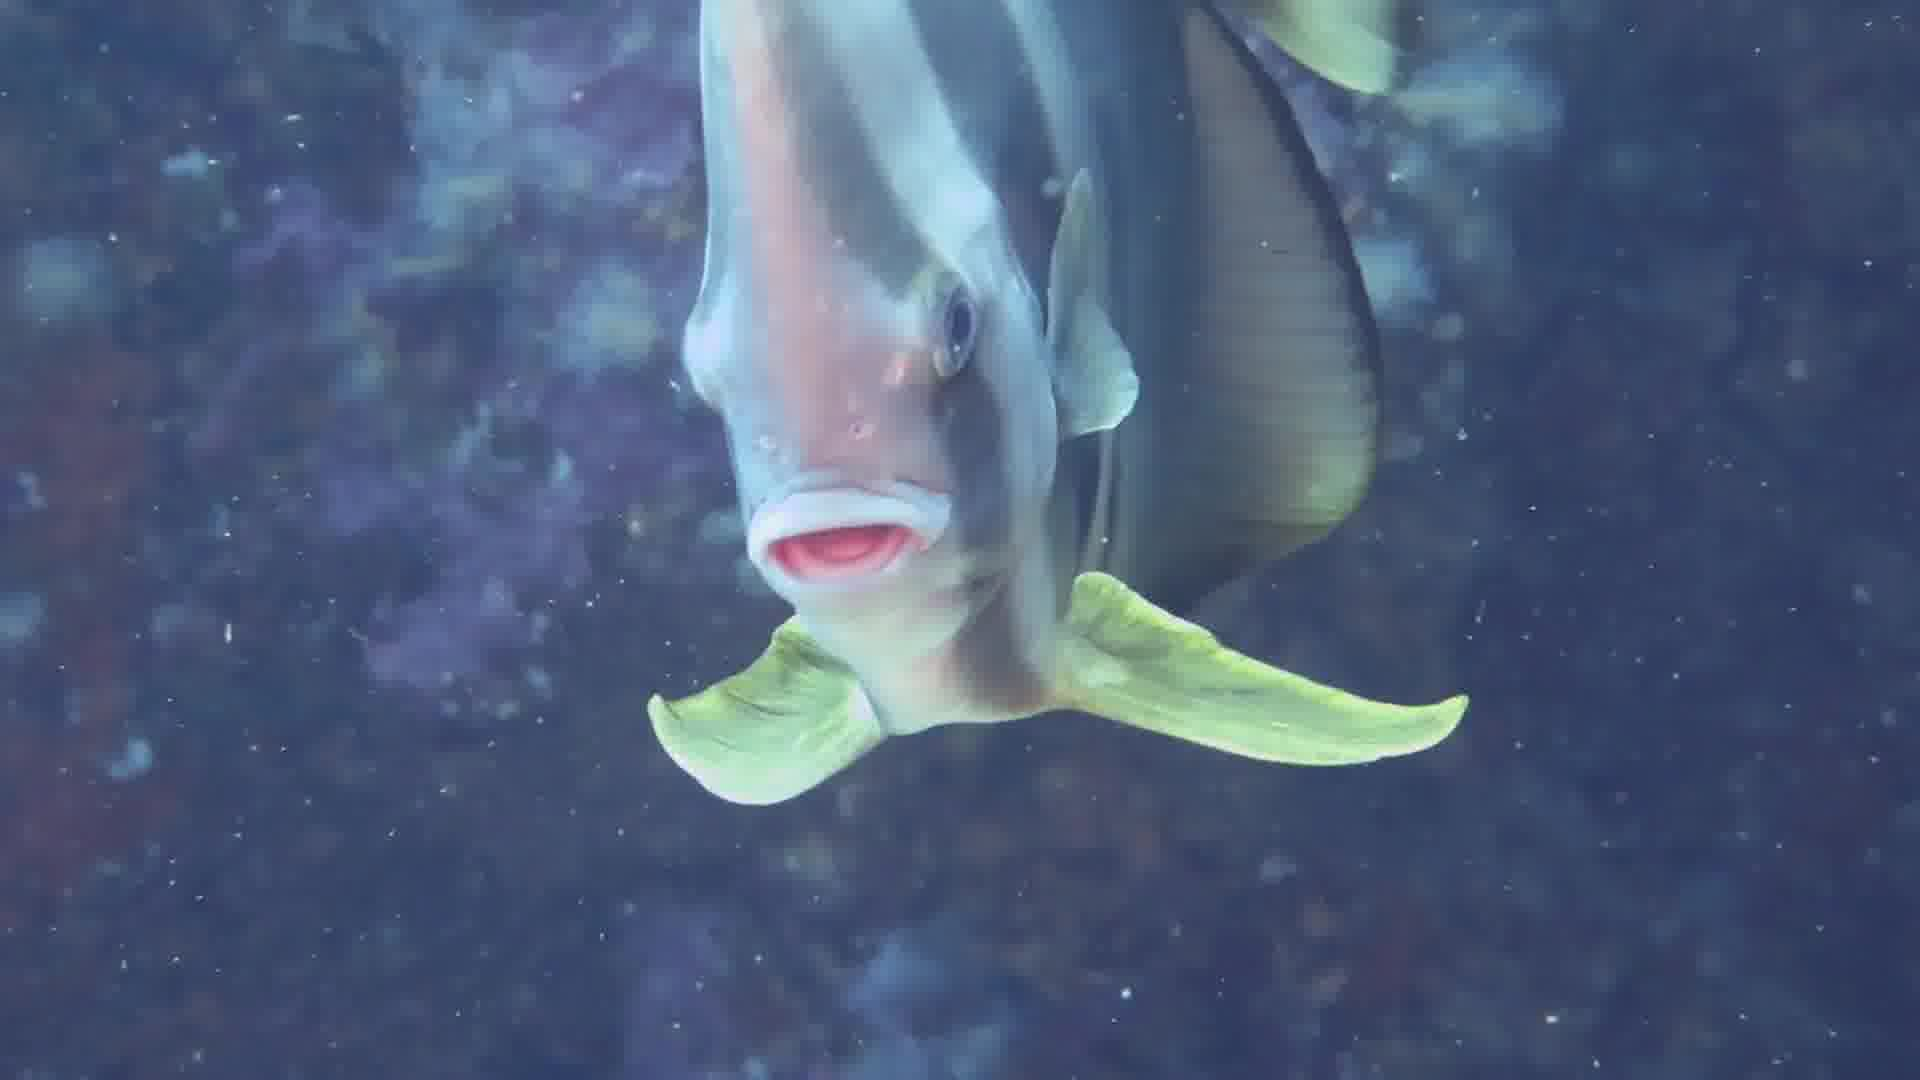Platax teira: (491, 1, 1515, 818)
